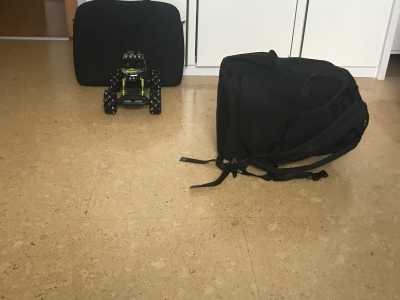remote control car: (102, 47, 164, 118)
